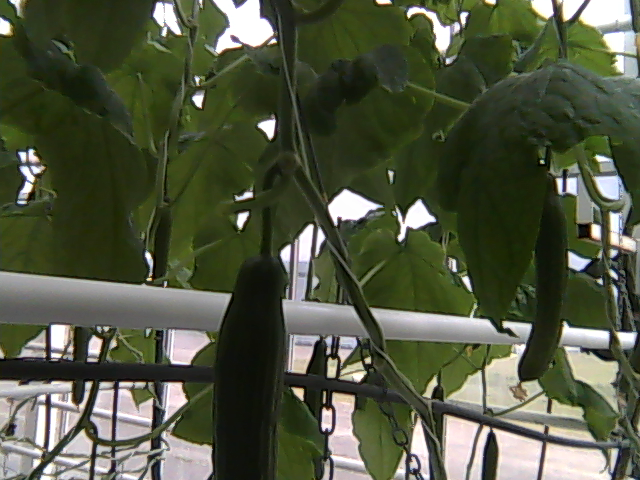concombre: (214, 241, 293, 480), (508, 171, 569, 402)
